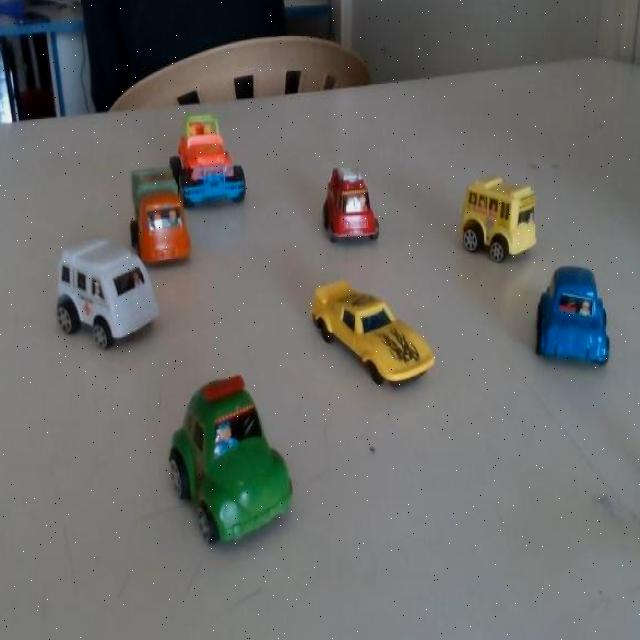car: (156, 377, 298, 546), (306, 276, 437, 396), (50, 223, 162, 361), (176, 102, 258, 206), (534, 266, 613, 369), (451, 176, 533, 271), (126, 156, 191, 272), (311, 158, 379, 256)
